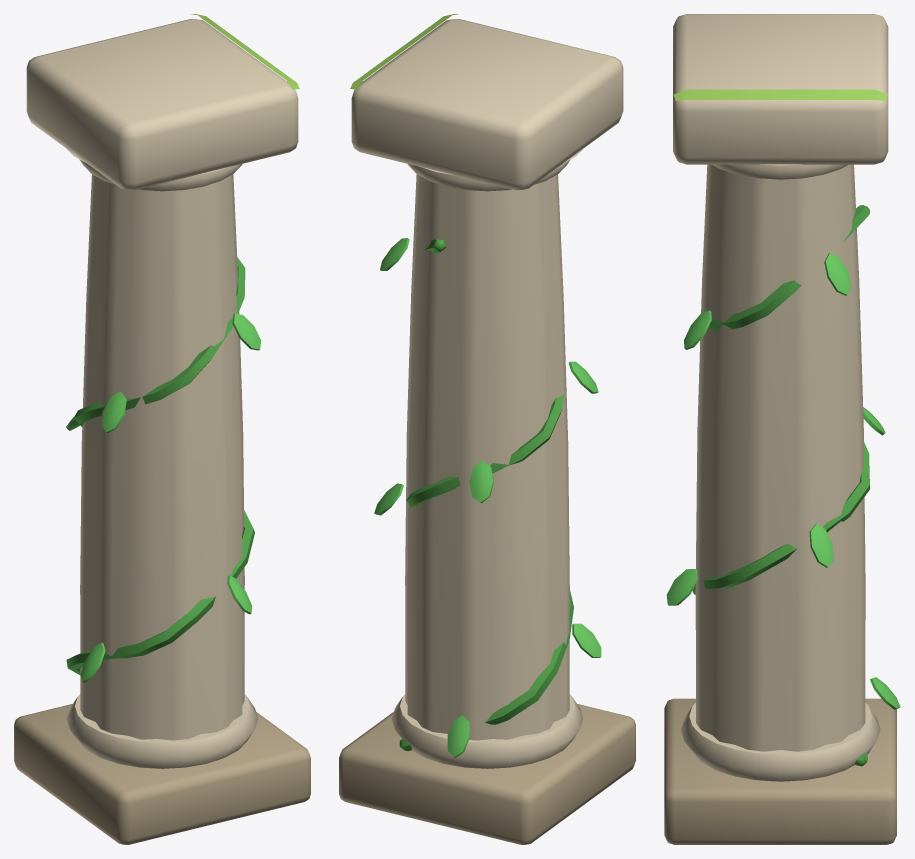
Rendered from stone_column.glb.
The picture shows the model from 3 angles, left to right: view 1: azimuth 30°, elevation 25°; view 2: azimuth 150°, elevation 25°; view 3: azimuth 270°, elevation 25°; orthographic projection. The views are drawn at different scales.
Visible parts, largest first — view 1: stone_column; view 2: stone_column; view 3: stone_column.
Part boxes in pixels (bbox=[...]): stone_column: bbox=[14, 14, 310, 844]; stone_column: bbox=[339, 14, 635, 844]; stone_column: bbox=[664, 14, 900, 844].
Bounding box in the file's own units: 1.35 × 4.8 × 1.37.
